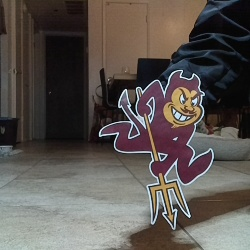sparky: (98, 69, 215, 231)
